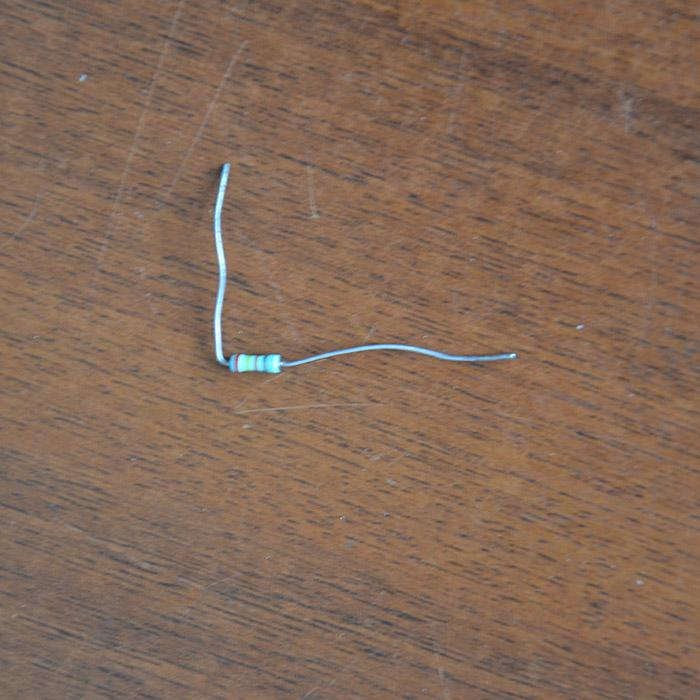resistor: (227, 352, 279, 373)
